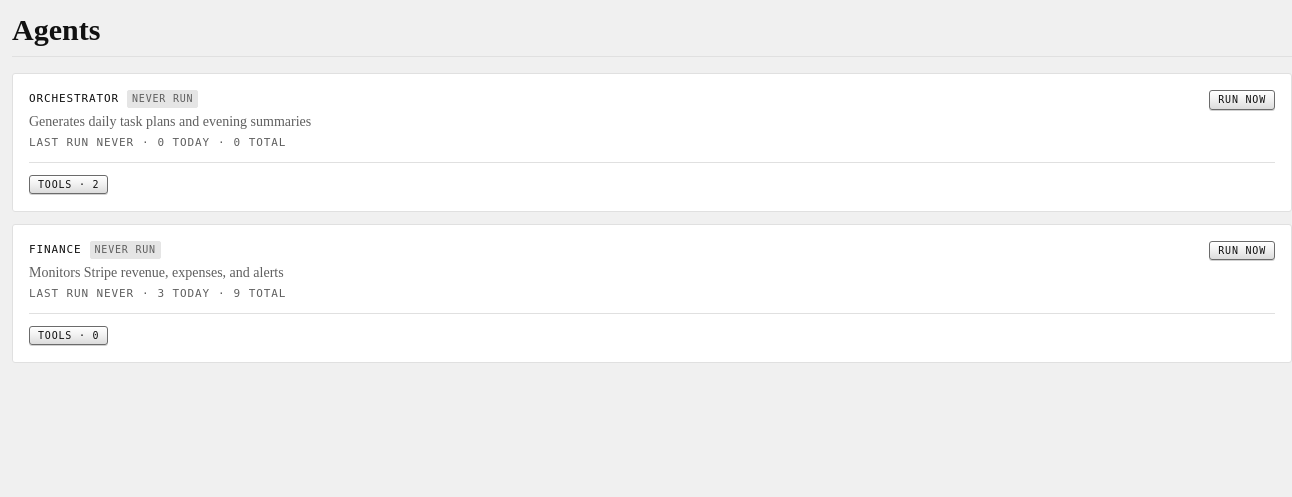
Test case: Agents page toolbox (V20 L4) › renders unknown tool names verbatim and MARKS a tool the registry gives no description
Click the button "Tools · 2" at (69, 185), box [29,175,108,194]
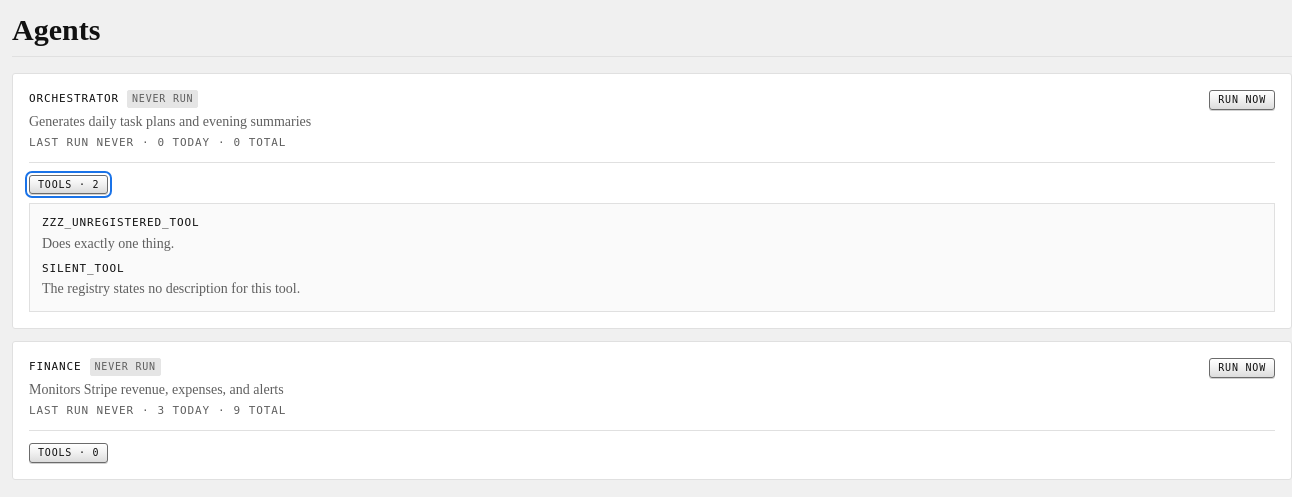
Expected: the text "zzz_unregistered_tool" is shown, [42,216,200,229]
Expected: the text "Does exactly one thing." is shown, [42,236,174,250]
Expected: the text "silent_tool" is shown, [42,262,124,274]
